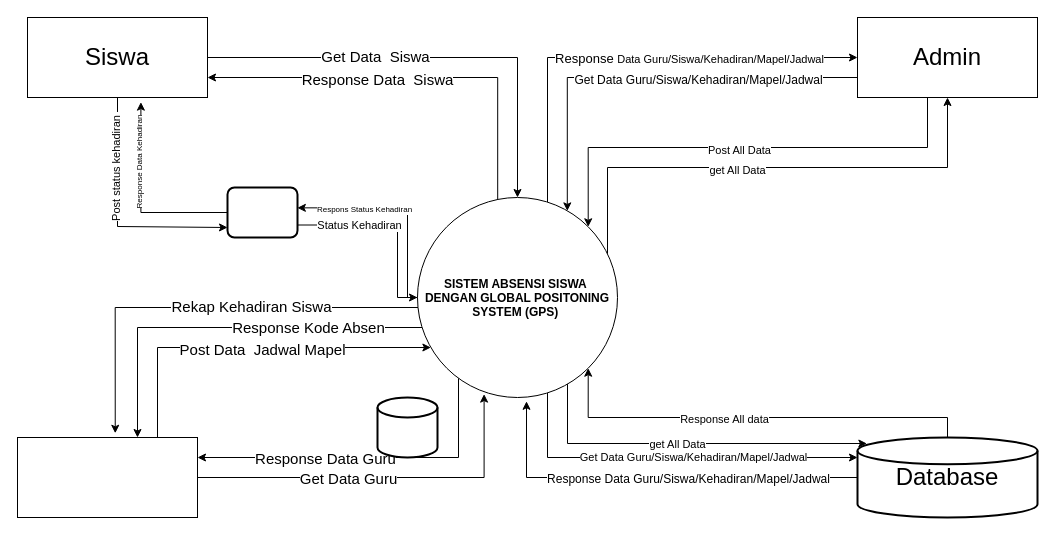
Some shapes in this 1056 by 536 pixel diagram are drawn without their labels. Here are the shapes that lost their labels. From the top down, the centre of each, then its label:
At [262,212]: "Validasi Lokasi Jika true".
At [107,477]: "Guru".
